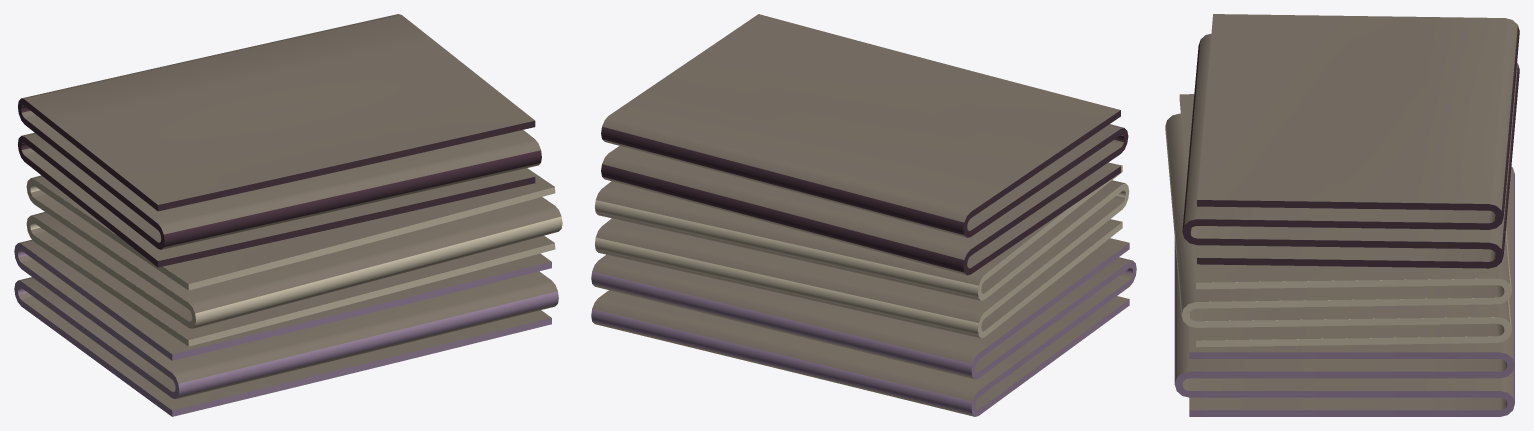
File: towel-stack-47eee2b85c4e.glb
The picture shows the model from 3 angles, left to right: view 1: azimuth 30°, elevation 25°; view 2: azimuth 150°, elevation 25°; view 3: azimuth 270°, elevation 25°; orthographic projection. The views are drawn at different scales.
Visible parts, largest first — view 1: cover-cloth, cloth-lilac, cloth-cream, cloth-plum; view 2: cover-cloth, cloth-lilac, cloth-cream, cloth-plum; view 3: cover-cloth, cloth-plum, cloth-lilac, cloth-cream.
Part boxes in pixels (bbox=[...]): cover-cloth: bbox=[18, 14, 561, 410]; cloth-lilac: bbox=[14, 243, 558, 416]; cloth-cream: bbox=[26, 178, 562, 346]; cloth-plum: bbox=[18, 98, 541, 267]; cover-cloth: bbox=[592, 14, 1132, 416]; cloth-lilac: bbox=[591, 243, 1136, 416]; cloth-cream: bbox=[595, 166, 1129, 338]; cloth-plum: bbox=[601, 110, 1128, 275]; cover-cloth: bbox=[1167, 14, 1517, 410]; cloth-plum: bbox=[1182, 26, 1519, 268]; cloth-lilac: bbox=[1174, 168, 1514, 416]; cloth-cream: bbox=[1165, 95, 1511, 347].
Bounding box in the file's own units: 0.314 × 0.1601 × 0.24.
